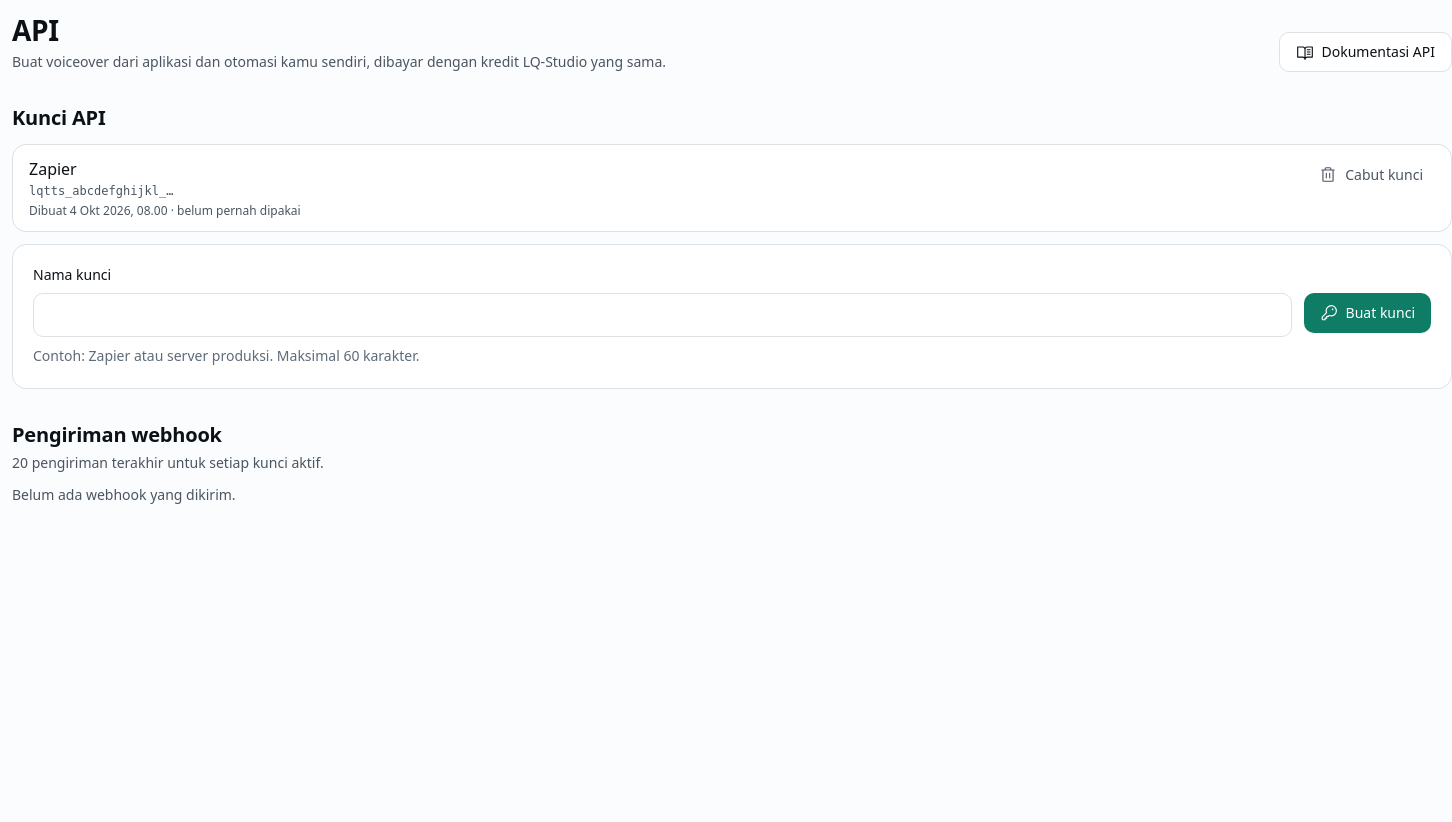
Scenario: ApiPage › revokes a key only after the inline confirm, moving focus into and out of it
expect the text "lqtts_abcdefghijkl_…" is shown: met, box [29,184,174,198]
expect the text "Dibuat 4 Okt 2026, 08.00 · belum pernah dipakai" is shown: met, box [29,203,301,219]
Click the button with aria-label "Cabut kunci Zapier": x=1371, y=175 [1307,157,1435,193]
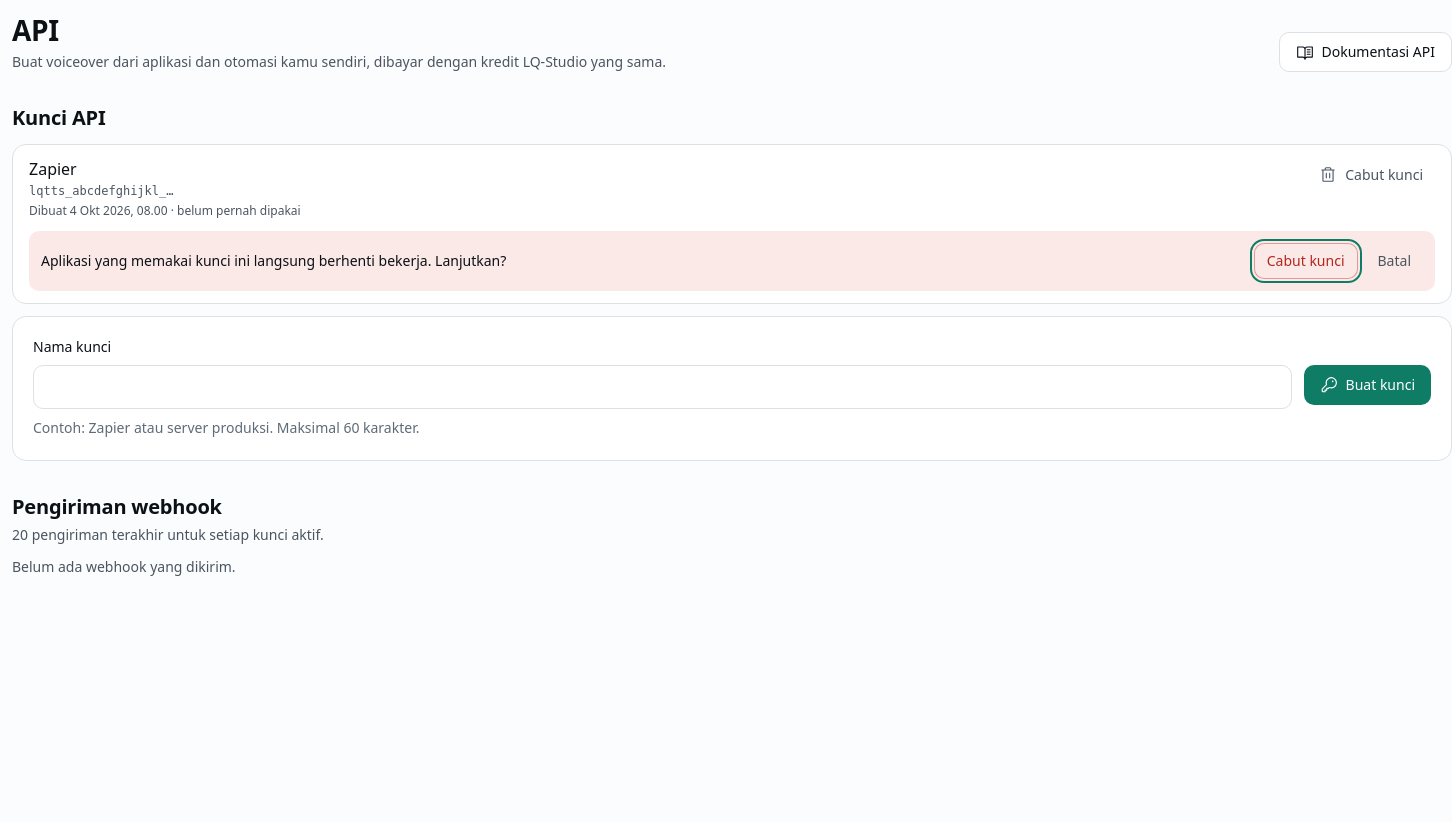
Click the button "Batal": x=1394, y=261 [1366,243,1423,279]
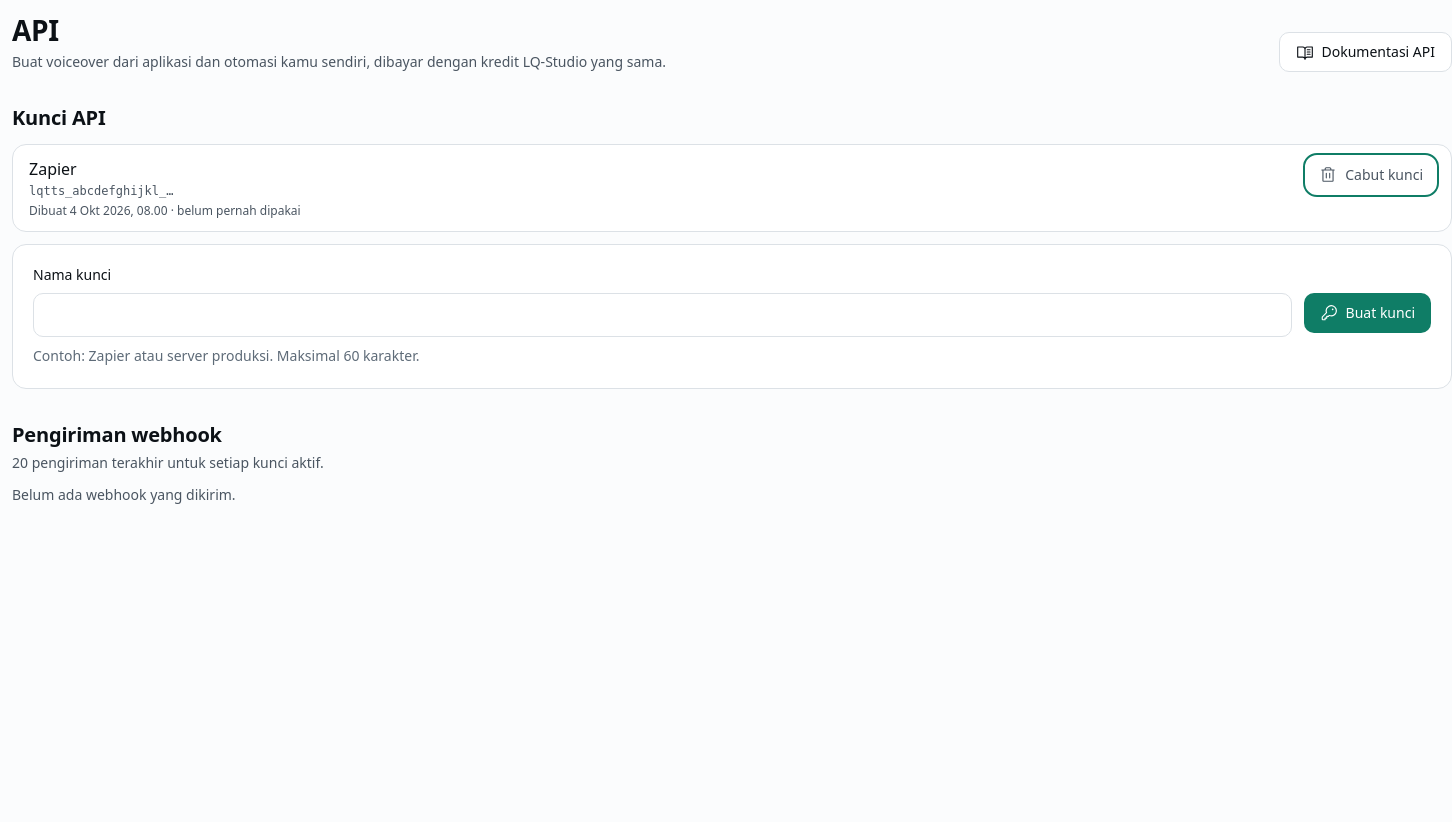
Click the button with aria-label "Cabut kunci Zapier": x=1371, y=175 [1307,157,1435,193]
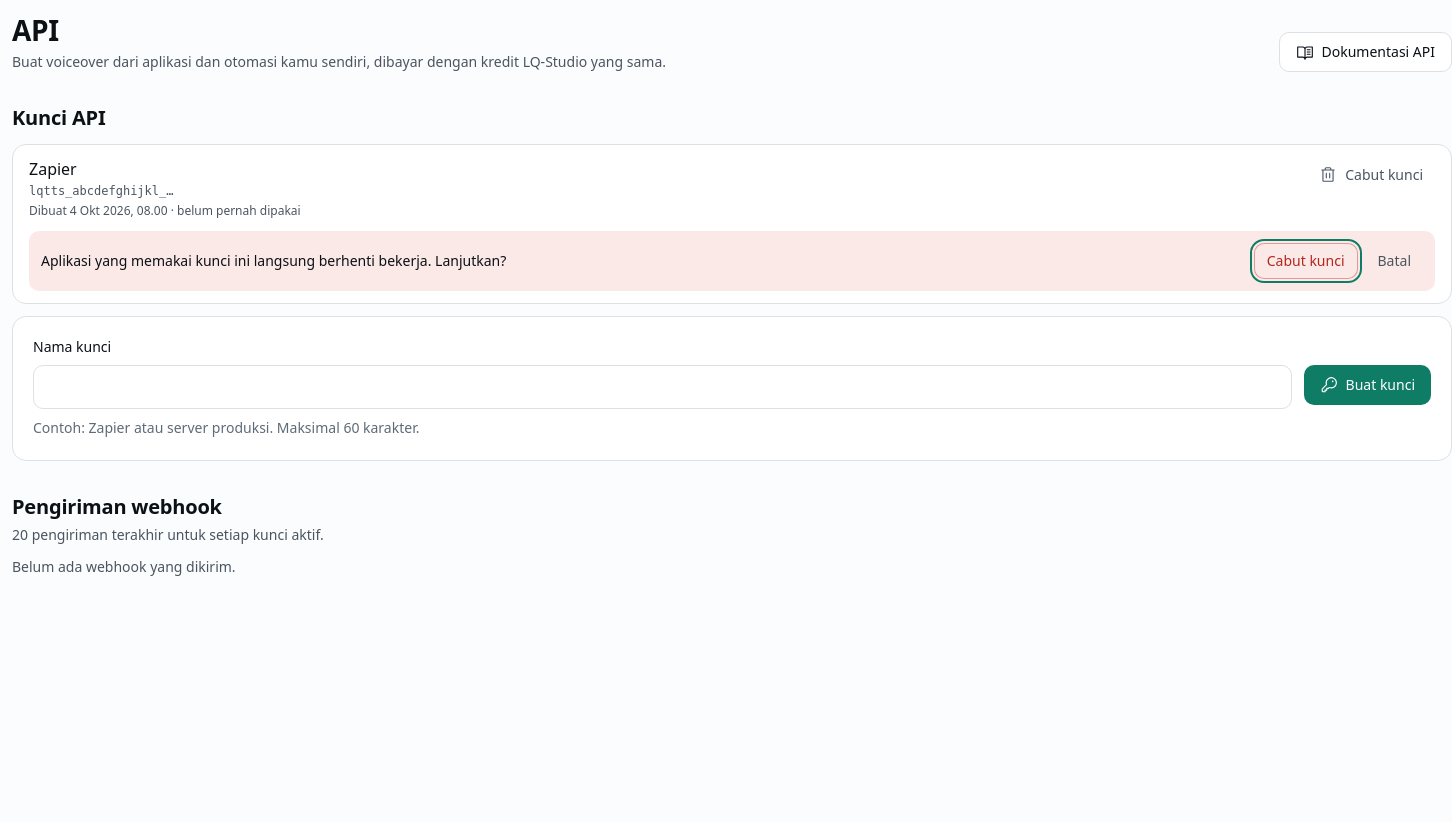
Click the 2nd button "Cabut kunci": x=1306, y=261 [1254,243,1358,279]
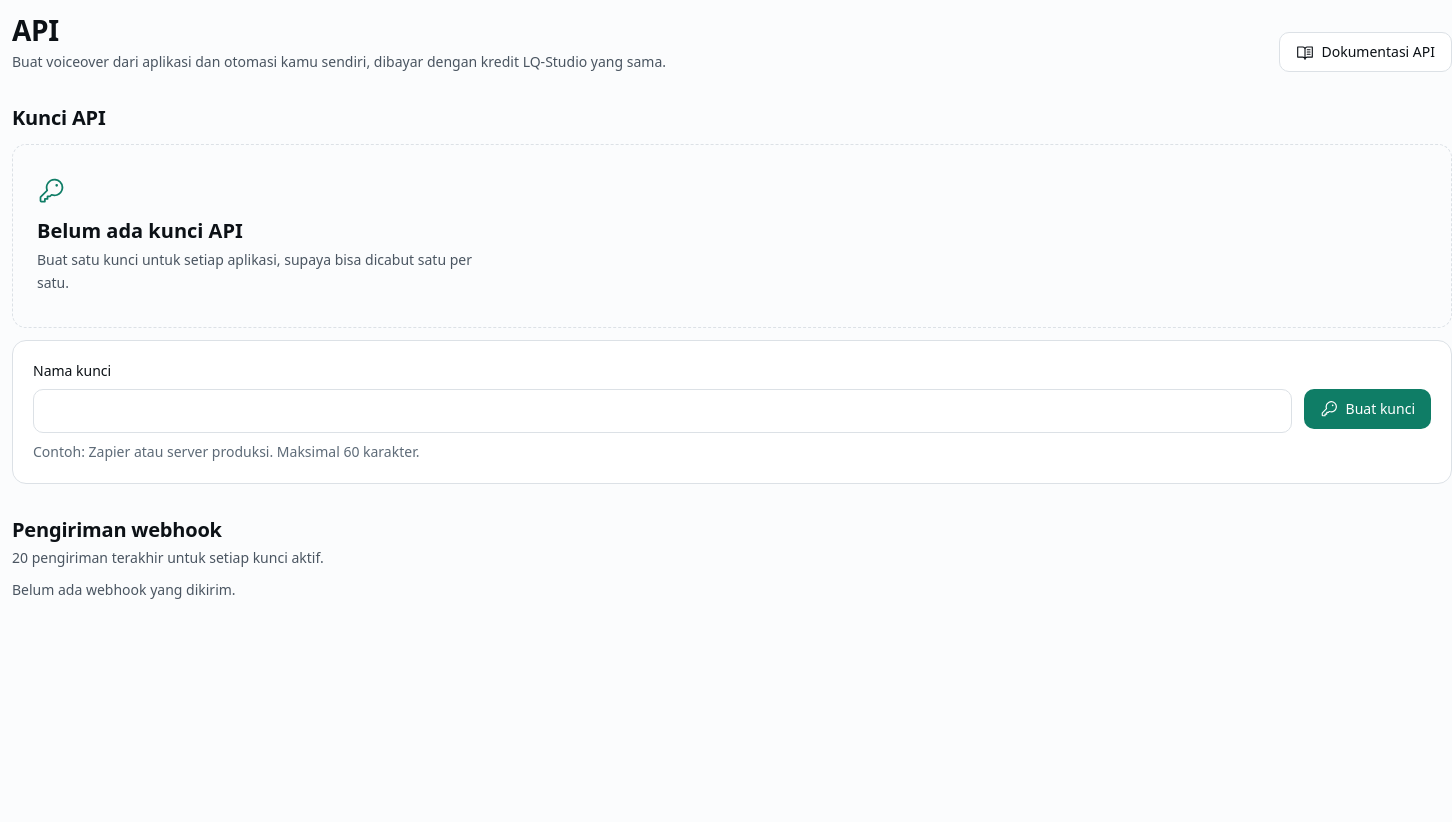
expect the text "Belum ada kunci API" is shown: met, box [37,217,243,244]
